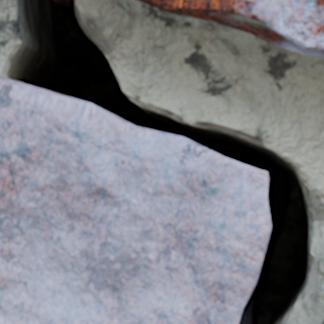brick: (0, 77, 270, 323), (140, 0, 323, 56)
crack: (2, 0, 321, 323)
